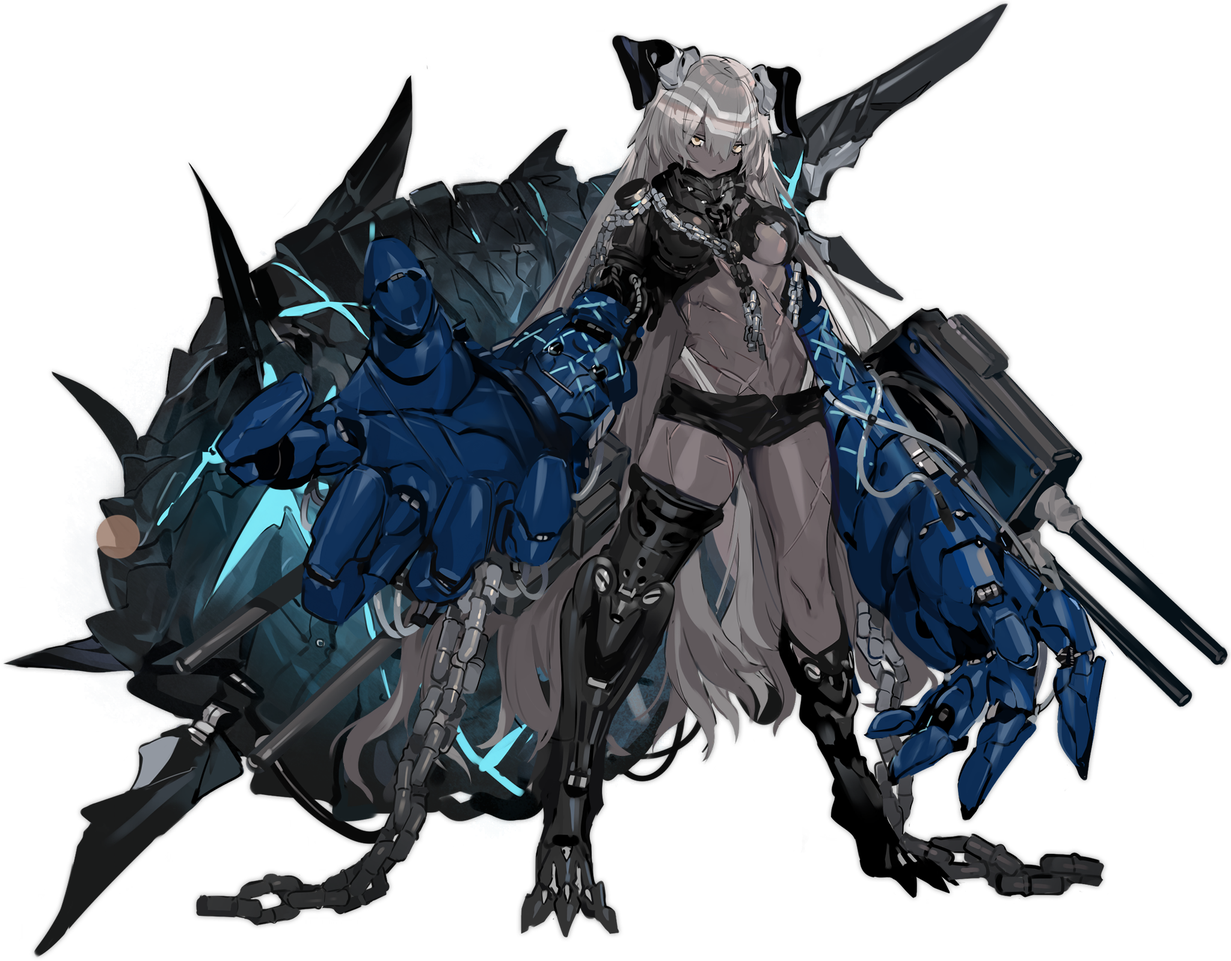person: (528, 17, 997, 953)
